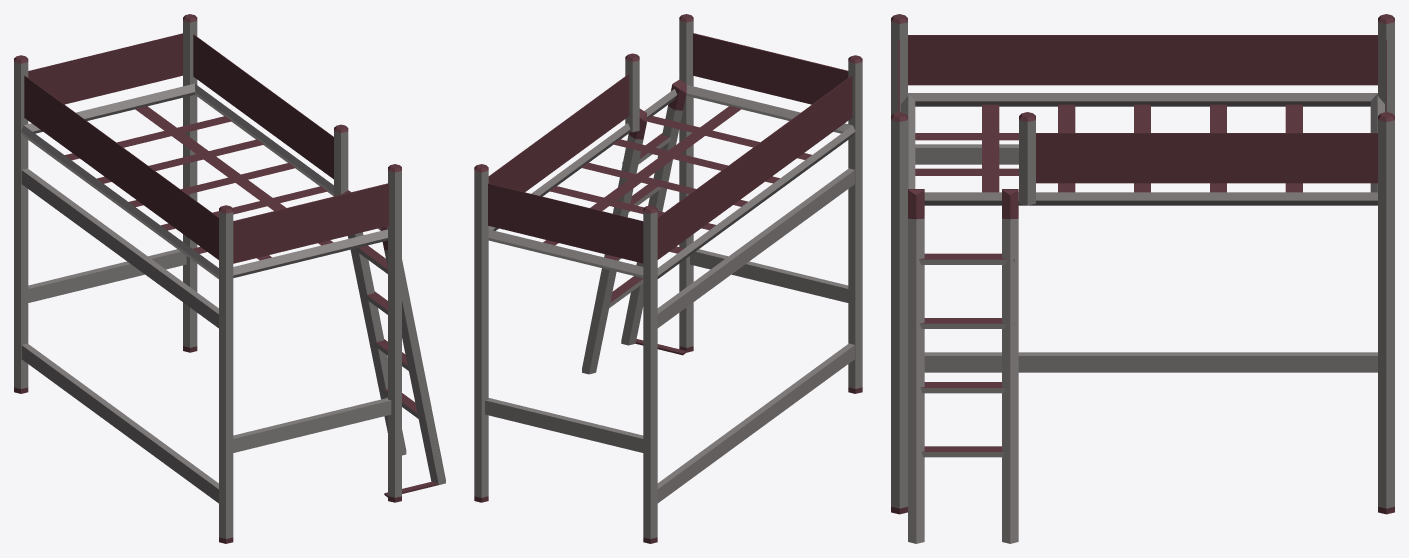
File: bed-bunk-kids-metal.fbx
3 renders of one model, left to right at view 1: azimuth 30°, elevation 25°; view 2: azimuth 150°, elevation 25°; view 3: azimuth 270°, elevation 25°, orthographic. The views are drawn at different scales.
Parts seen in each view (by area): view 1: bed-bunk-kids-metal; view 2: bed-bunk-kids-metal; view 3: bed-bunk-kids-metal.
Boxes of the visible parts, box(x1,y1,x2,y2) form: bed-bunk-kids-metal: box(14, 14, 445, 543); bed-bunk-kids-metal: box(474, 14, 862, 543); bed-bunk-kids-metal: box(891, 14, 1394, 543).
Size of the model in its own units: 1.32 by 1.79 by 2.07.
